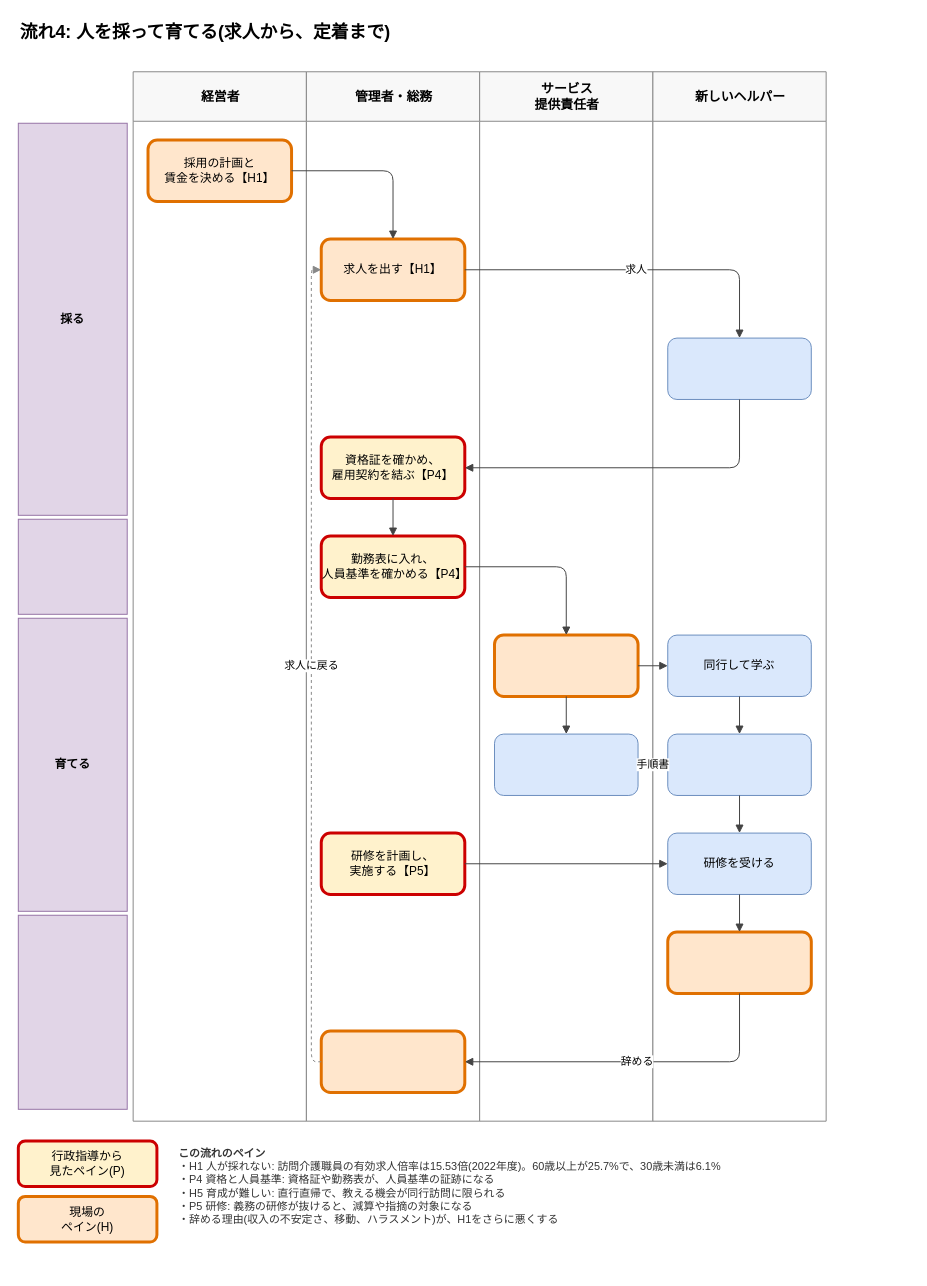
This 927x1286 diagram has some shape labels left out. Each missing label, with the centre of its shape:
"1人で訪問する" goes at point (739, 764).
"同行訪問で教える 【H5】" goes at point (566, 665).
"応募し、 面接を受ける" goes at point (739, 368).
"独り立ちを判断し、 手順書で指示する" goes at point (566, 764).
"続けてもらう" goes at point (72, 1011).
"続けるか、辞めるか (収入・移動・ハラスメント) 【H1】" goes at point (739, 962).
"辞めた穴を埋める 【H1】" goes at point (392, 1061).
"迎える" goes at point (72, 566).
